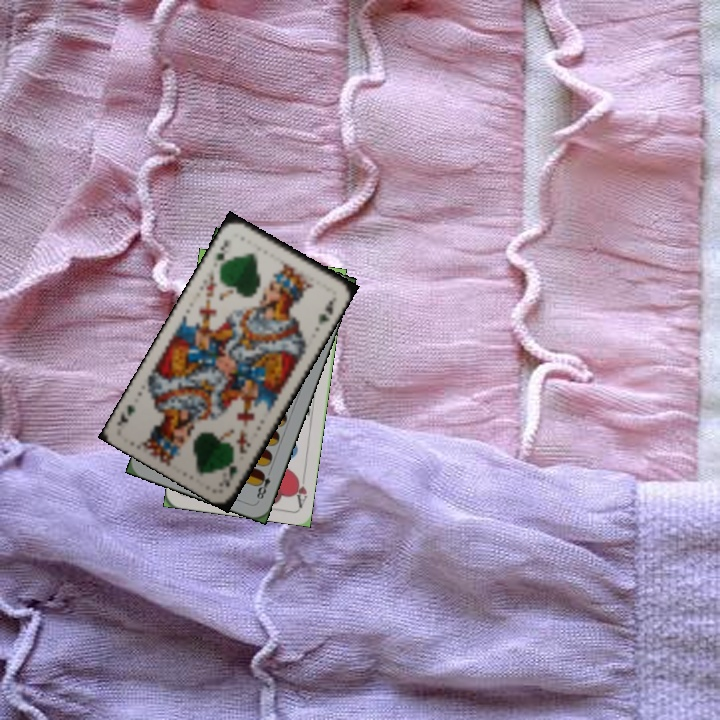E8: (252, 465, 274, 504)
GK: (215, 453, 240, 490), (212, 235, 230, 271)
HA: (290, 469, 310, 509)
